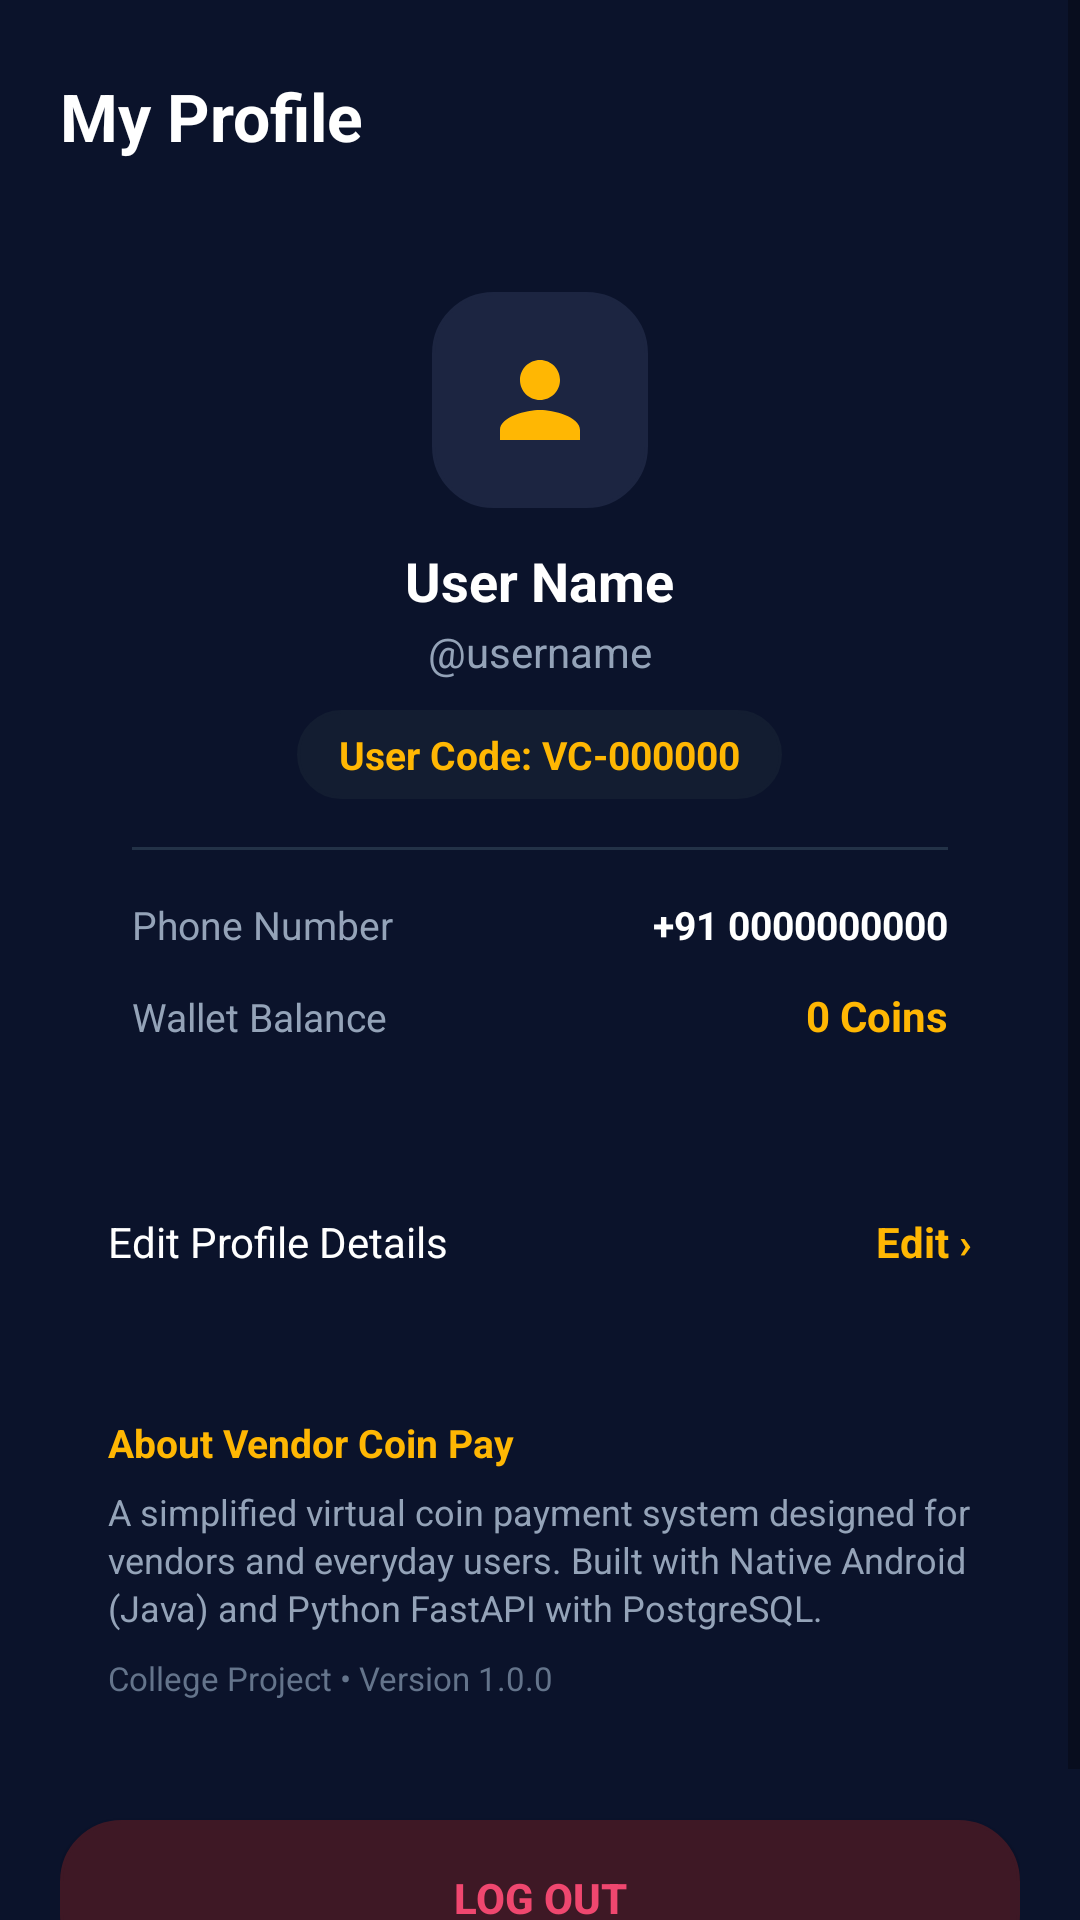

Icons on this 1080px×1920px Android screen, each with its box as box(x1, y1, x2, y2):
profile: box(500, 360, 580, 440)
